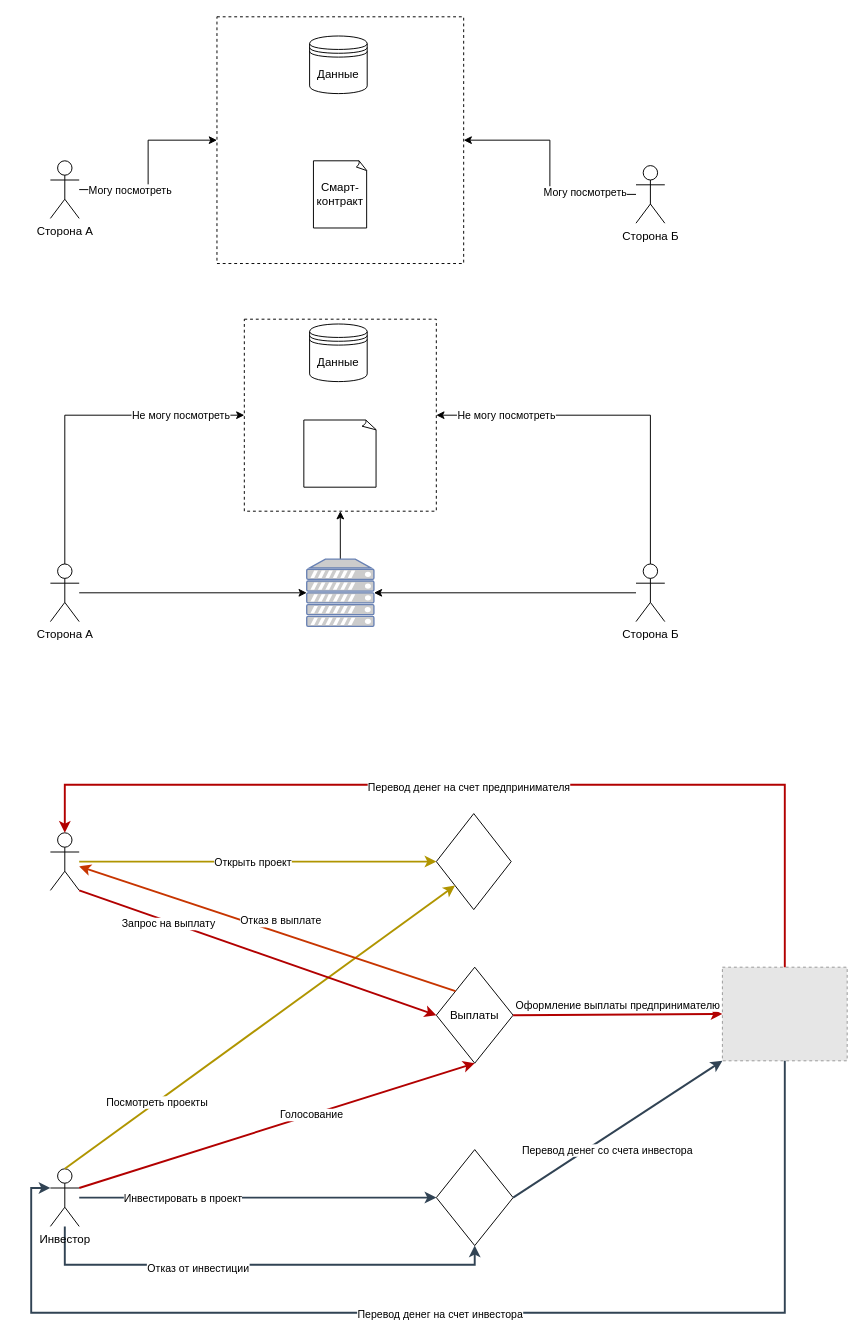
This 864x1338 diagram has some shape labels left out. Grey dashed boxes stand in for pictures. Each missing label, with the centre of its shape:
"Алгоритмы" goes at (340,453).
"Инвестиции" goes at (474,1197).
"Предприниматель" goes at (64,861).
"Проекты" goes at (473,861).
"Сервер" goes at (339,592).
